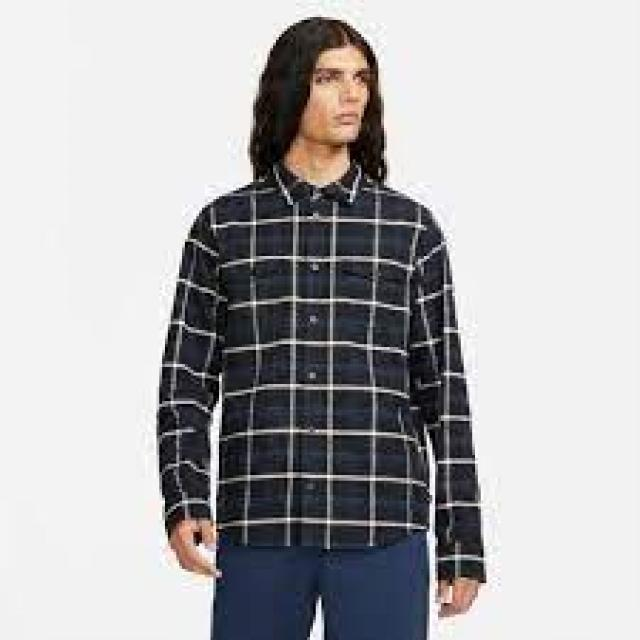plaid: (146, 174, 494, 587)
